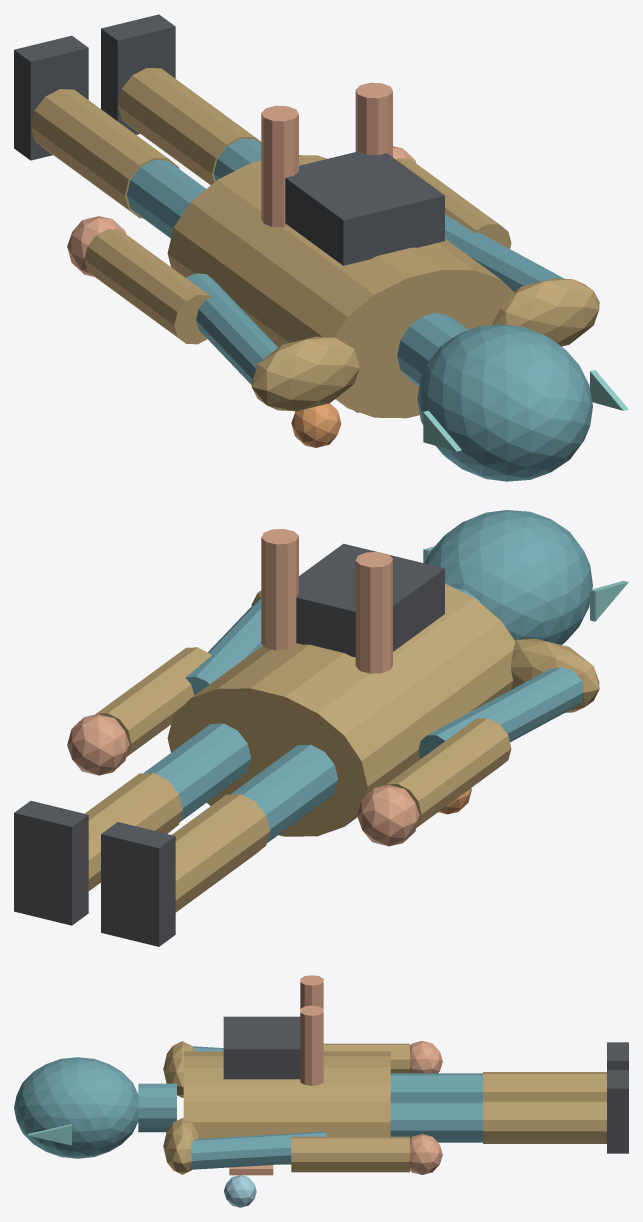
The model's file is SWN-018_selka_morn.glb.
3 renders of one model, top to bottom at view 1: azimuth 30°, elevation 25°; view 2: azimuth 150°, elevation 25°; view 3: azimuth 270°, elevation 25°, orthographic. The views are drawn at different scales.
Visible parts, largest first — view 1: body_spine, head, back_thruster_pack, greave_-1, greave_1, forearm_gauntlet_-1, shoulder_plate_-1, boot_-1, boot_1, shoulder_plate_1, upper_arm_-1, aether_thruster_-1 (+10 smaller); view 2: body_spine, head, back_thruster_pack, boot_1, boot_-1, greave_-1, forearm_gauntlet_-1, thigh_-1, thigh_1, upper_arm_-1, forearm_gauntlet_1, greave_1 (+7 smaller); view 3: body_spine, head, greave_1, back_thruster_pack, forearm_gauntlet_1, thigh_1, greave_-1, upper_arm_1, thigh_-1, aether_thruster_1, neck, boot_1 (+10 smaller).
Part boxes in pixels (x1,y1,x2,y2): body_spine: [167, 155, 515, 418]; head: [417, 324, 592, 481]; back_thruster_pack: [285, 151, 444, 265]; greave_-1: [30, 89, 179, 218]; greave_1: [117, 68, 261, 185]; forearm_gauntlet_-1: [84, 229, 210, 344]; shoulder_plate_-1: [251, 336, 360, 411]; boot_-1: [14, 35, 88, 160]; boot_1: [101, 14, 175, 134]; shoulder_plate_1: [492, 278, 599, 346]; upper_arm_-1: [186, 273, 278, 384]; aether_thruster_-1: [261, 105, 298, 227]; body_spine: [167, 583, 515, 836]; head: [425, 510, 592, 644]; back_thruster_pack: [296, 543, 444, 657]; boot_1: [14, 801, 88, 925]; boot_-1: [101, 822, 175, 946]; greave_-1: [172, 794, 269, 912]; forearm_gauntlet_-1: [385, 718, 511, 827]; thigh_-1: [230, 744, 338, 843]; thigh_1: [143, 723, 251, 821]; upper_arm_-1: [418, 667, 582, 758]; forearm_gauntlet_1: [95, 647, 211, 756]; greave_1: [84, 773, 182, 890]; body_spine: [183, 1051, 390, 1164]; head: [14, 1057, 138, 1158]; greave_1: [483, 1100, 606, 1143]; back_thruster_pack: [223, 1016, 300, 1079]; forearm_gauntlet_1: [291, 1136, 409, 1172]; thigh_1: [390, 1101, 482, 1142]; greave_-1: [483, 1072, 606, 1099]; upper_arm_1: [190, 1131, 326, 1169]; thigh_-1: [390, 1073, 482, 1101]; aether_thruster_1: [300, 1005, 323, 1085]; neck: [138, 1083, 176, 1132]; boot_1: [607, 1070, 628, 1153].
Bounding box in the file's own units: 0.9596 × 0.76 × 2.23.
